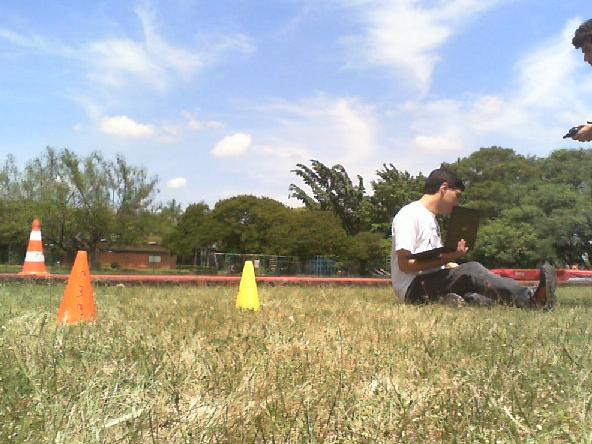0 cone: (56, 251, 97, 326), (19, 218, 48, 275), (236, 261, 260, 310)
